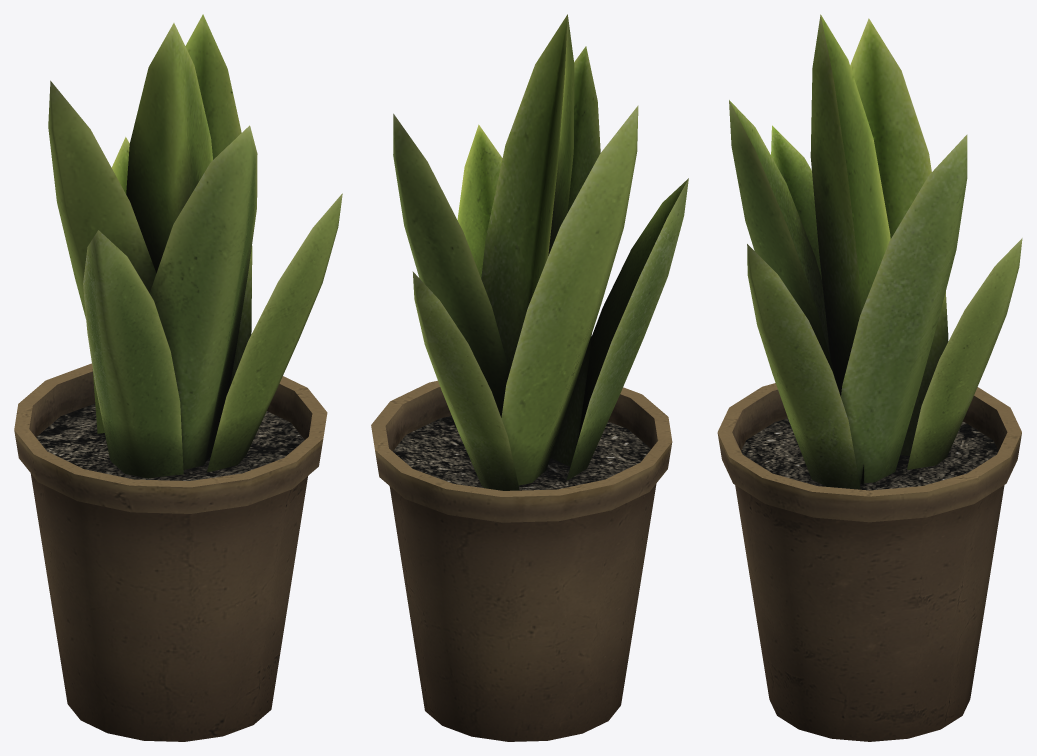
Rendered from Plant01.FBX.
3 renders of one model, left to right at view 1: azimuth 30°, elevation 25°; view 2: azimuth 150°, elevation 25°; view 3: azimuth 270°, elevation 25°, orthographic. The views are drawn at different scales.
Visible parts, largest first — view 1: Plant01; view 2: Plant01; view 3: Plant01.
Boxes of the visible parts, left/top/right/bottom form: Plant01: left=14, top=14, right=342, bottom=741; Plant01: left=371, top=14, right=688, bottom=741; Plant01: left=717, top=14, right=1022, bottom=741.
Size of the model in its own units: 49.38 by 121 by 49.43.
